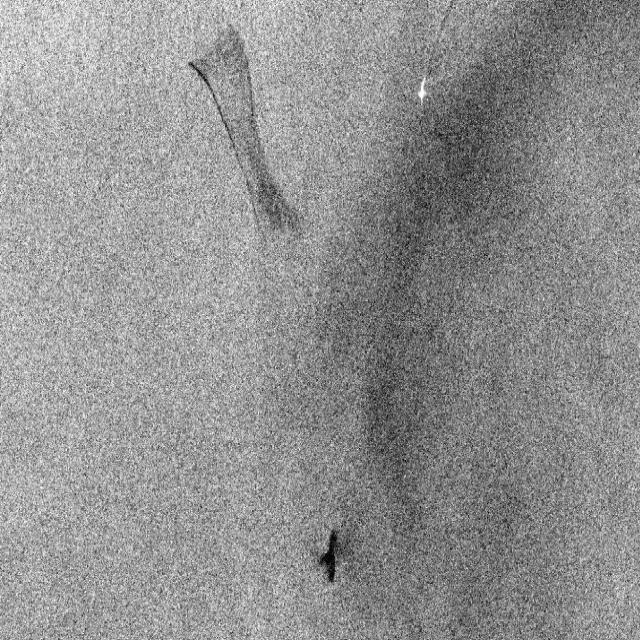oil-spill: (189, 26, 300, 247), (318, 527, 341, 590)
ship: (414, 73, 432, 109)
